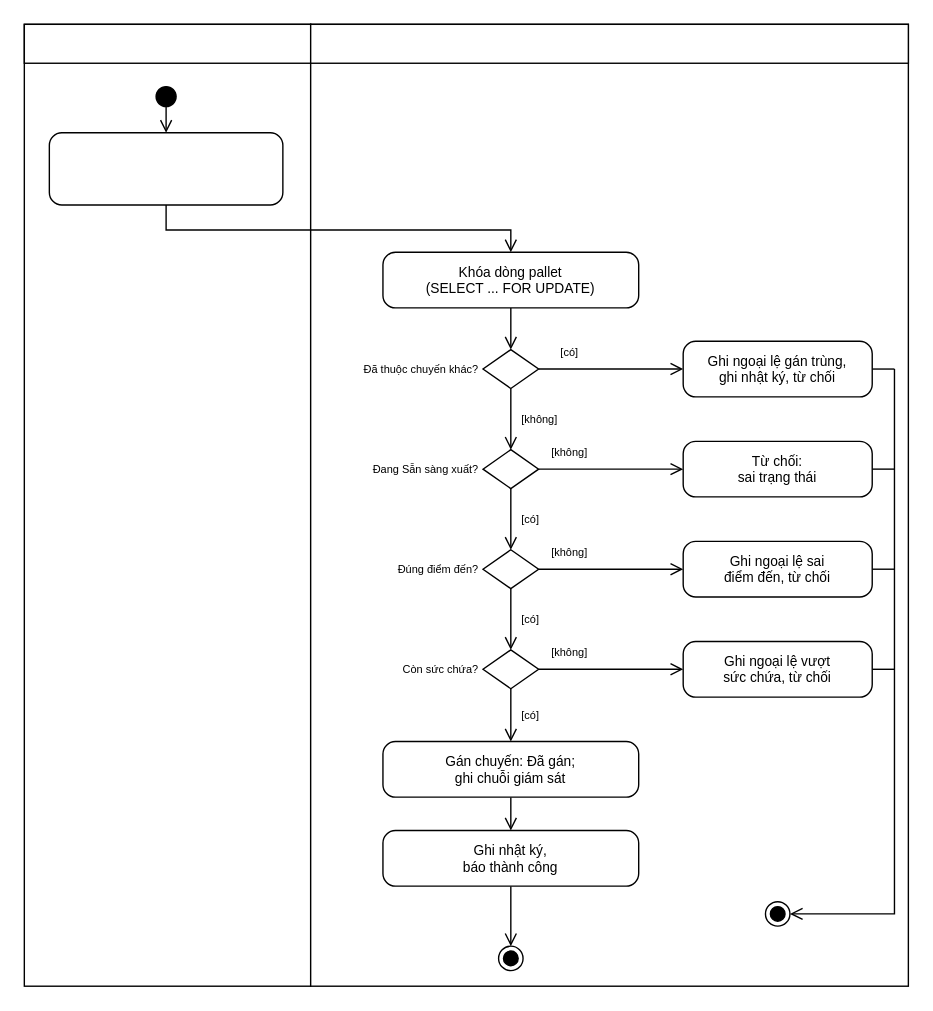
This 933x1011 diagram has some shape labels left out. Here are the shapes that lost their labels. From the top down, the box of each, then its label:
(23, 23, 311, 63): NV Outbound
(309, 23, 908, 63): Hệ thống
(48, 131, 283, 205): Chọn pallet và chuyến xuất, bấm Gán chuyến
